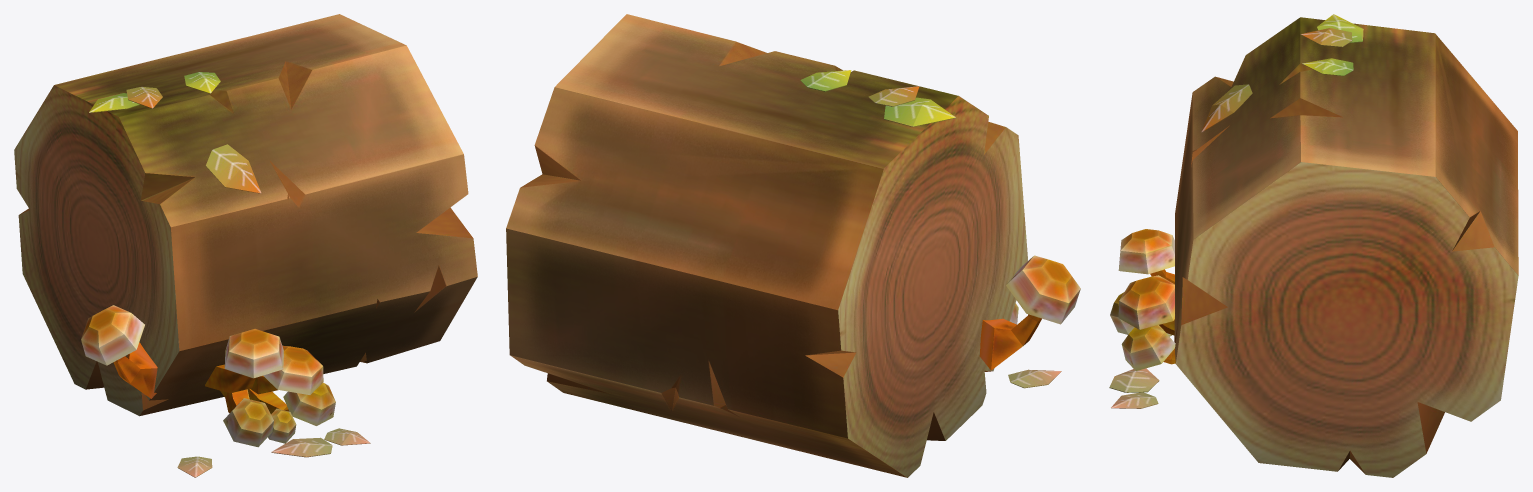
Rendered from stump_2.glb.
The picture shows the model from 3 angles, left to right: view 1: azimuth 30°, elevation 25°; view 2: azimuth 150°, elevation 25°; view 3: azimuth 270°, elevation 25°; orthographic projection. The views are drawn at different scales.
Parts seen in each view (by area): view 1: Cylinder.001; view 2: Cylinder.001; view 3: Cylinder.001.
Part boxes in pixels (x1,y1,x2,y2): Cylinder.001: (14,14,477,477); Cylinder.001: (506,14,1080,477); Cylinder.001: (1109,14,1518,477).
Size of the model in its own units: 0.3798 by 0.3005 by 0.3525.
Materials: 1 (1 with a texture image).
